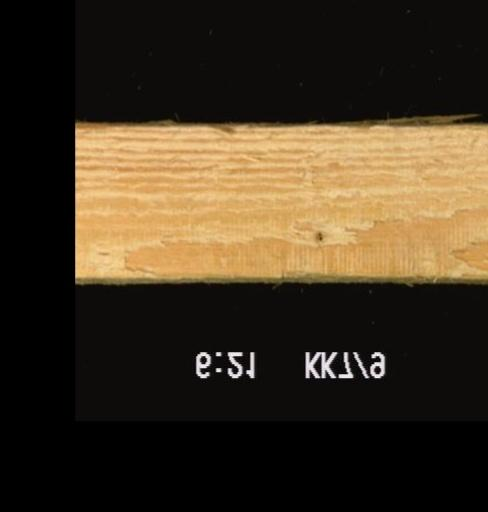small_knot: (310, 228, 327, 245)
